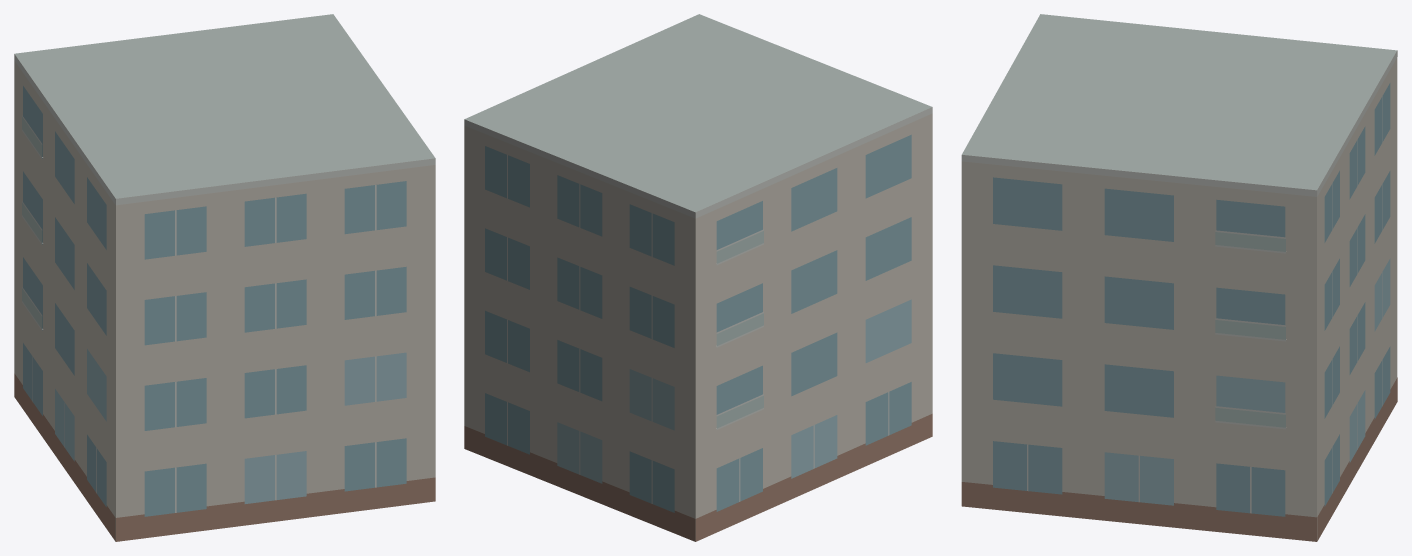
Rendered from survey-upis-32663573.glb.
The picture shows the model from 3 angles, left to right: view 1: azimuth 30°, elevation 25°; view 2: azimuth 150°, elevation 25°; view 3: azimuth 270°, elevation 25°; orthographic projection. The views are drawn at different scales.
Parts seen in each view (by area): view 1: survey-upis-32663573.tmp; view 2: survey-upis-32663573.tmp; view 3: survey-upis-32663573.tmp.
Boxes of the visible parts, left/top/right/bottom form: survey-upis-32663573.tmp: left=14, top=14, right=435, bottom=541; survey-upis-32663573.tmp: left=464, top=14, right=932, bottom=541; survey-upis-32663573.tmp: left=961, top=14, right=1397, bottom=541.
Size of the model in its own units: 13.78 by 12.8 by 14.39.
